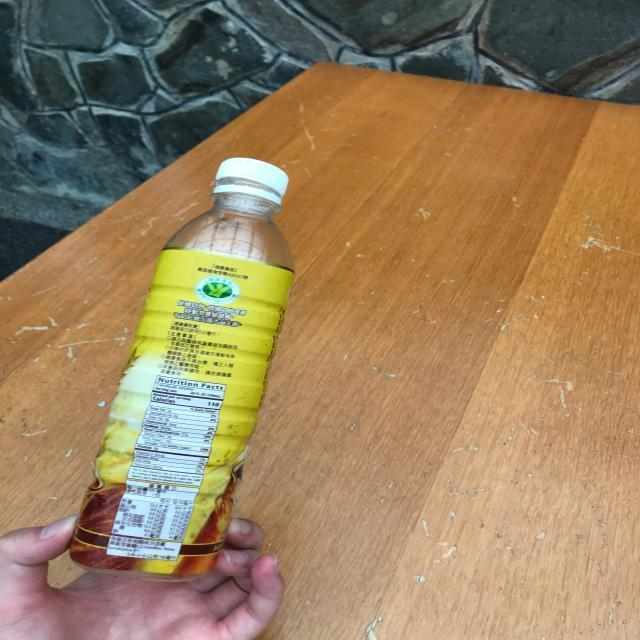plastic_bottle: (70, 158, 296, 583)
